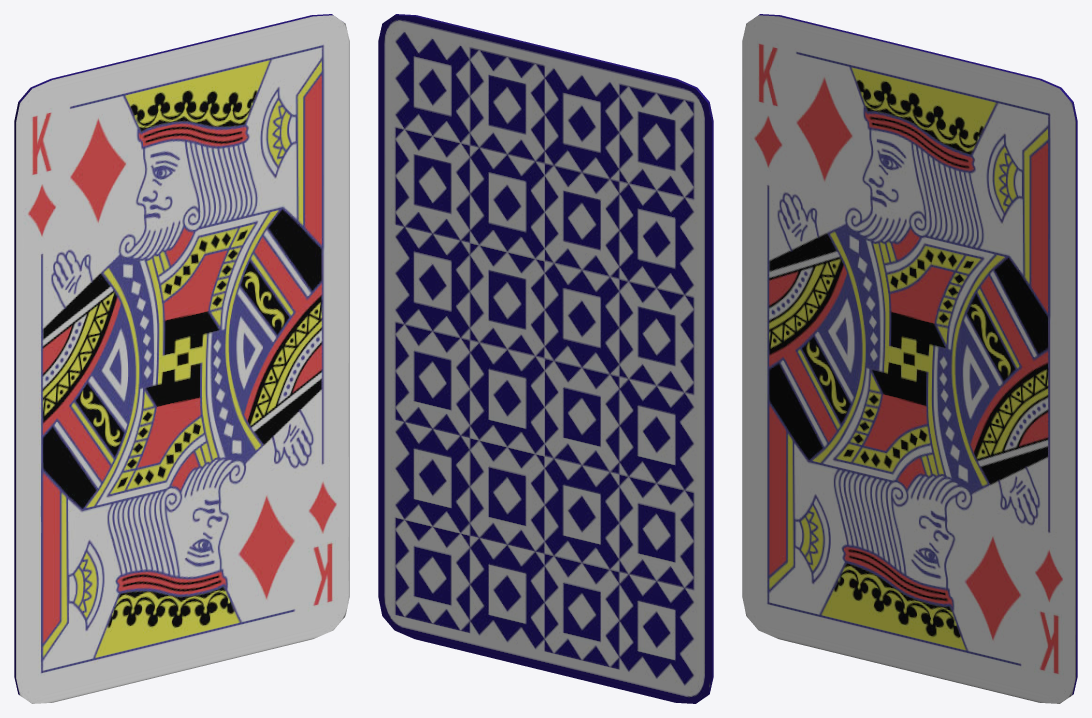
The picture shows the model from 3 angles, left to right: view 1: azimuth 30°, elevation 25°; view 2: azimuth 150°, elevation 25°; view 3: azimuth 330°, elevation 25°; orthographic projection.
Visible parts, largest first — view 1: King of Diamonds; view 2: King of Diamonds; view 3: King of Diamonds.
Part boxes in pixels (left/top/right/bottom): King of Diamonds: left=14, top=14, right=349, bottom=703; King of Diamonds: left=378, top=14, right=713, bottom=703; King of Diamonds: left=742, top=14, right=1077, bottom=703.
Bounding box in the file's own units: 1.43 × 2.54 × 0.0125.
3 materials, 3 textured.
